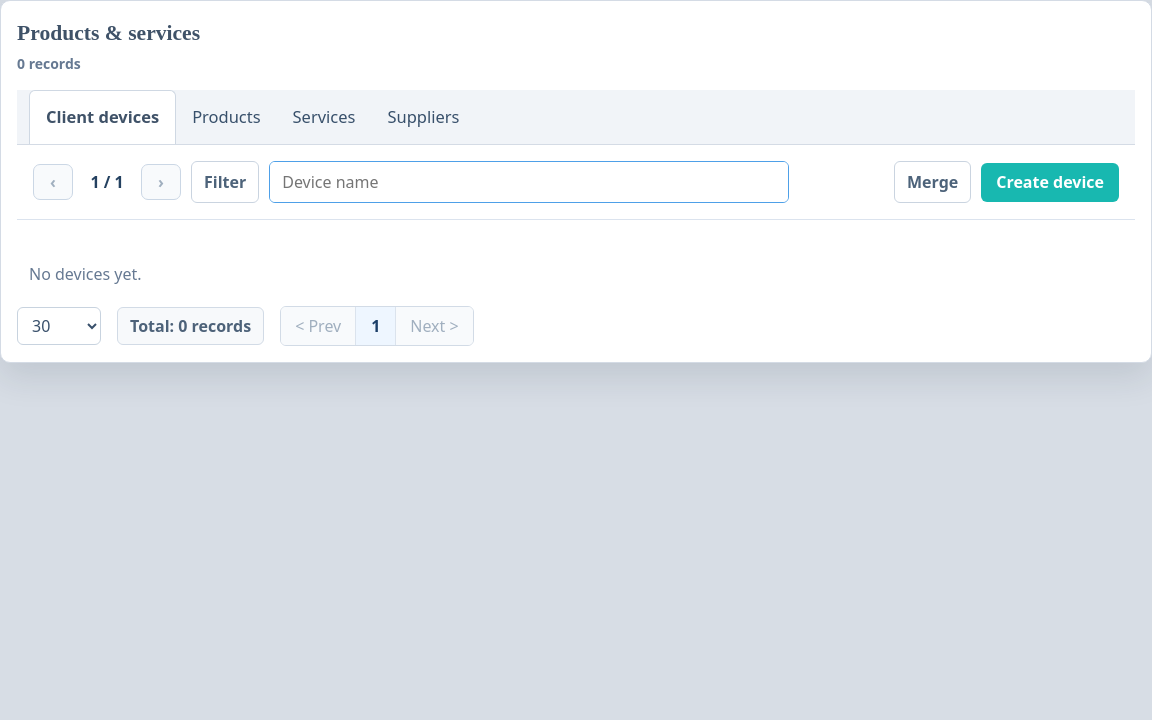
Test: ProductCatalogPanel client devices search › filters suppliers catalog tab by date and status
Click the button "Suppliers". click: (423, 117)
box: x1=371 y1=90 x2=475 y2=144
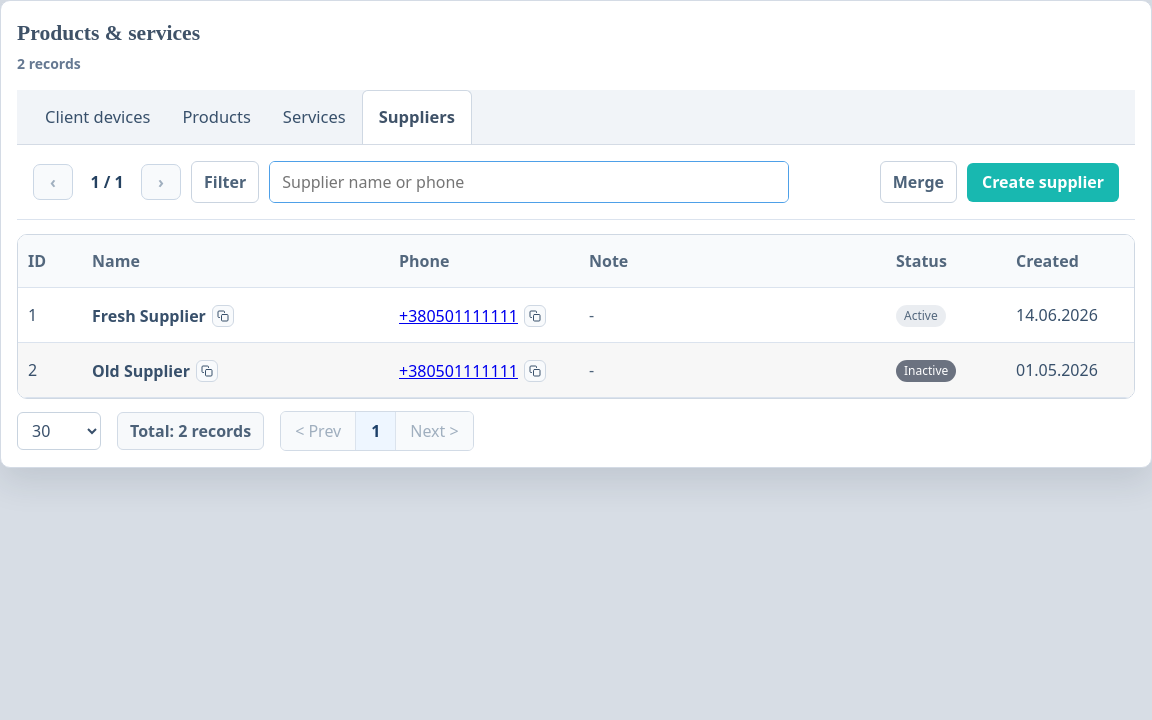
Click the button "Filter". click: (225, 182)
box: x1=191 y1=161 x2=259 y2=203
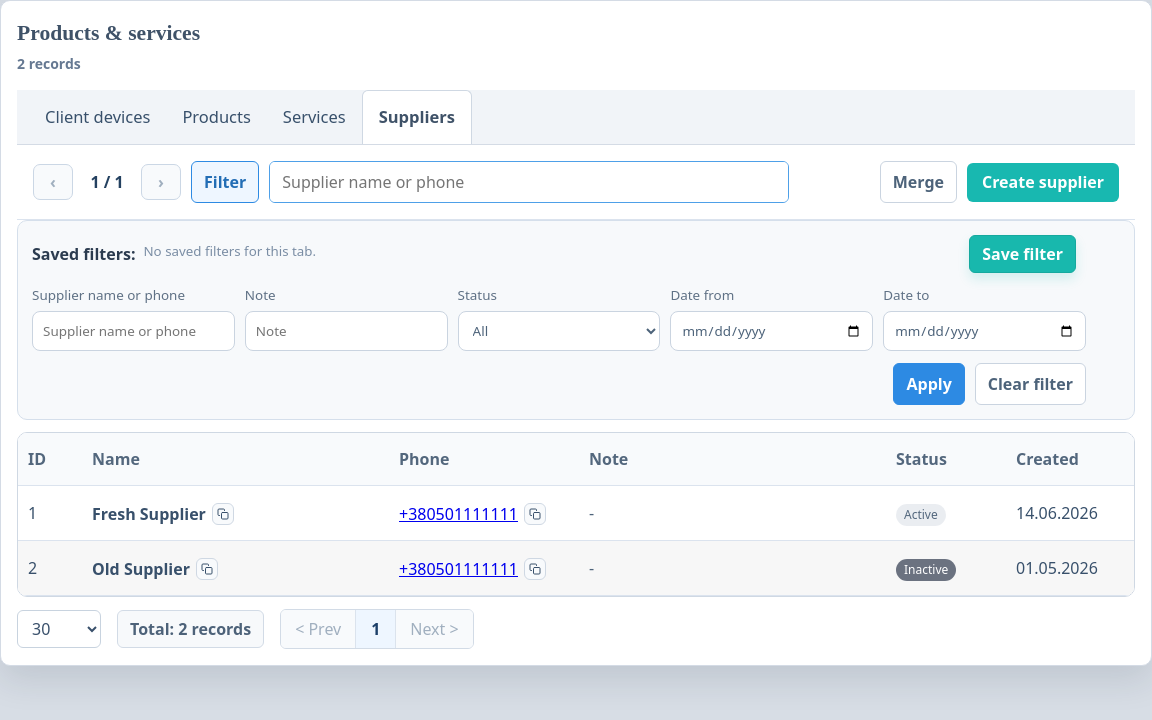
Select "Active" in the dropdown labelled "Status". click: (559, 331)
box: x1=458 y1=311 x2=660 y2=351
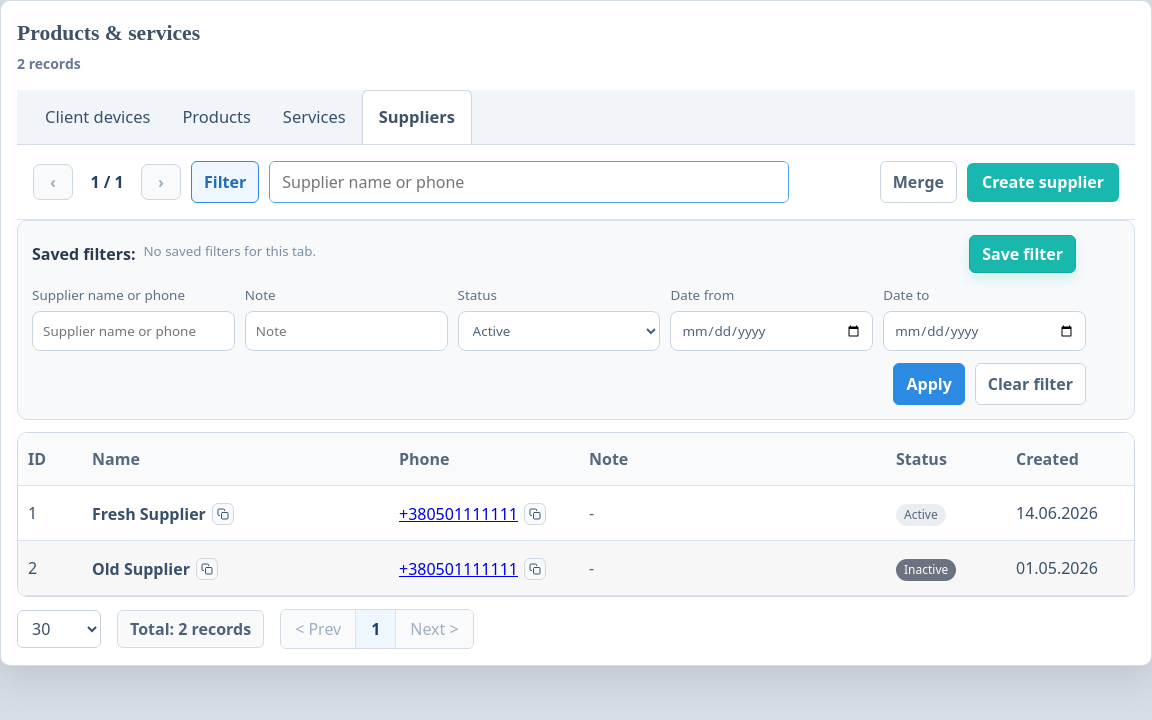
Type "2026-06-01" into the date field labelled "Date from". click: (772, 331)
box: x1=670 y1=311 x2=873 y2=352
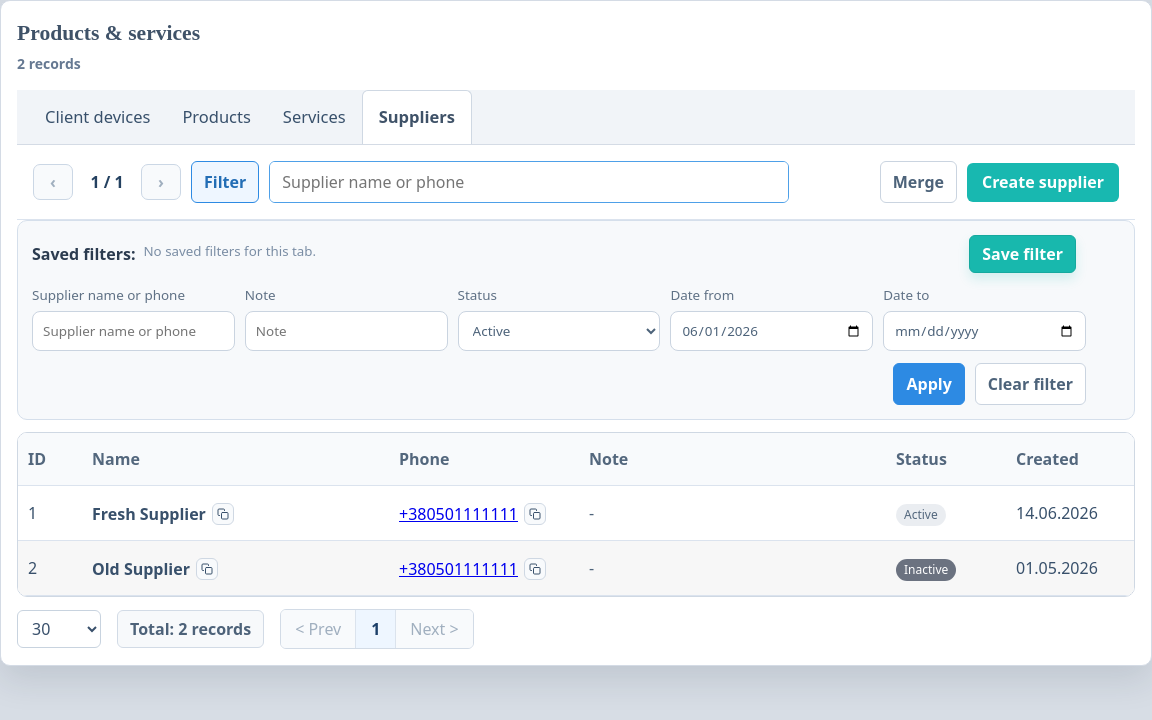
Click the button "Apply". click: (929, 384)
box: x1=894 y1=363 x2=965 y2=405
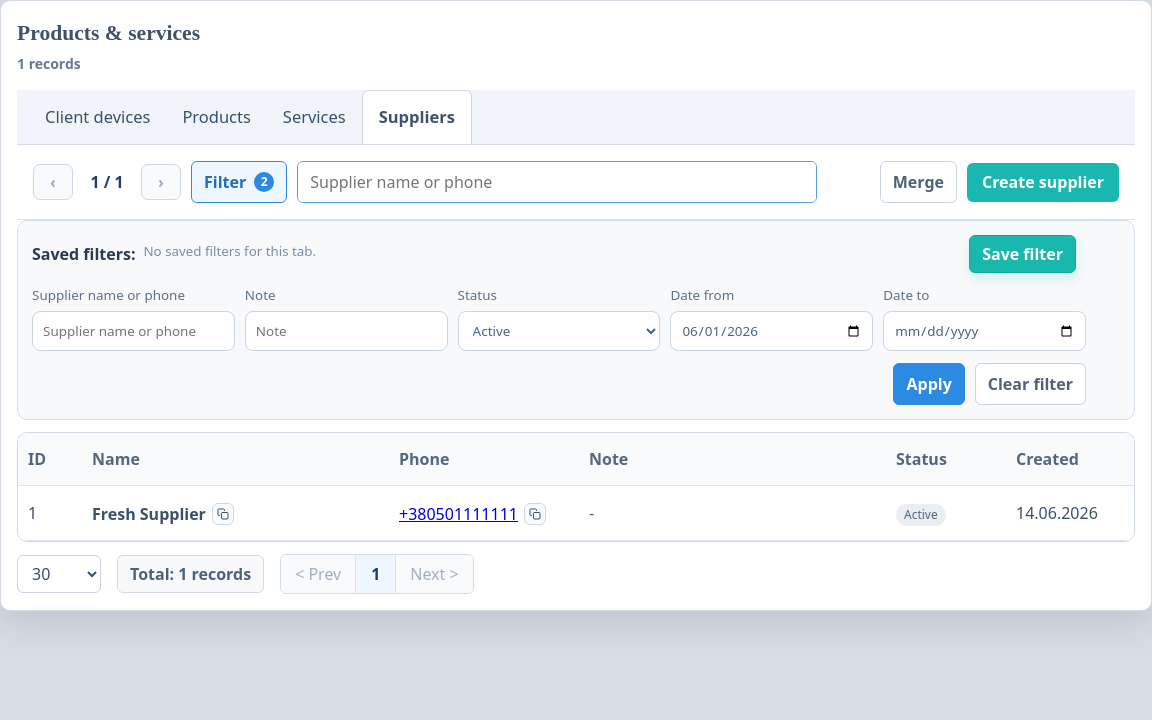
Expected: the button "Fresh Supplier" is shown, x1=92 y1=502 x2=206 y2=526
Expected: the button "Old Supplier" is gone
